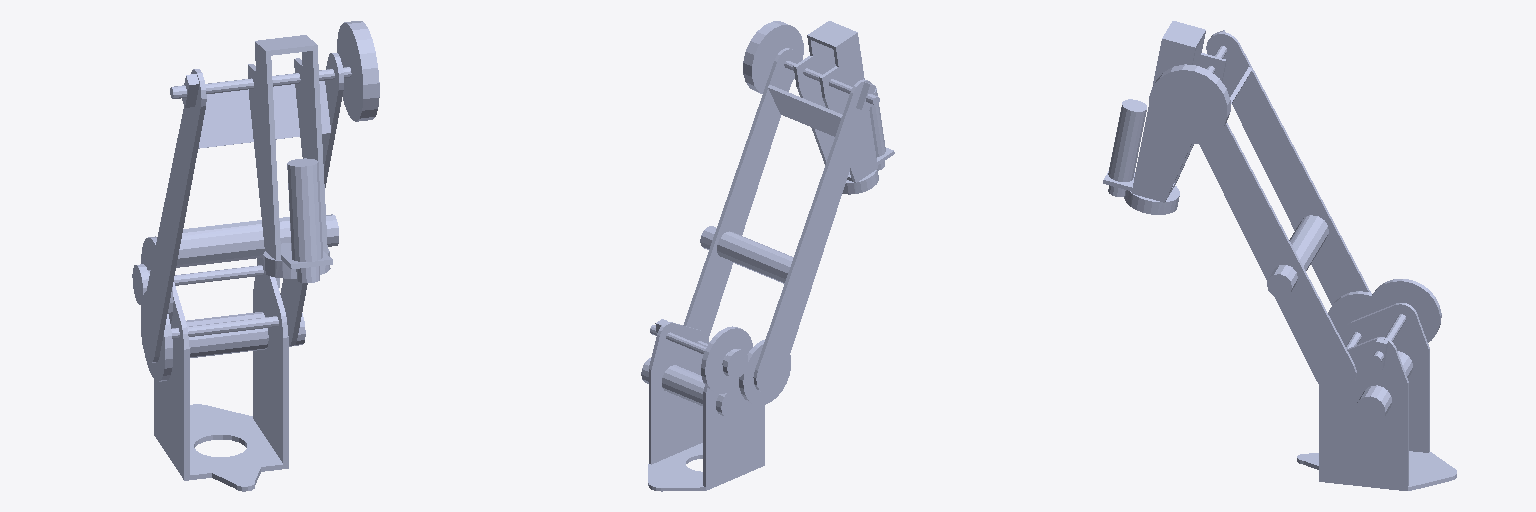
The robot description file, URDF, robot "wroboarm_22":
<?xml version="1.0" encoding="utf-8" ?>
<!-- This URDF was automatically created by SolidWorks to URDF Exporter! Originally created by [author] ([email redacted]) 
     Commit Version: 1.6.0-4-g7f85cfe  Build Version: 1.6.7995.38578
     For more information, please see http://wiki.ros.org/sw_urdf_exporter -->
<robot name="wroboarm_22">
    <link name="base_link">
        <visual>
            <origin xyz="0 0 0" rpy="0 0 0" />
            <geometry>
                <mesh filename="package://wroboarm_22/meshes/base_link.stl" />
            </geometry>
            <material name="">
                <color rgba="0.792156862745098 0.819607843137255 0.933333333333333 1" />
            </material>
        </visual>
        <collision>
            <origin xyz="0 0 0" rpy="0 0 0" />
            <geometry>
                <mesh filename="package://wroboarm_22/meshes/base_link.stl" />
            </geometry>
        </collision>
    </link>
    <link name="shoulderBase_link">
        
        <inertial>
            <origin xyz="-0.0122586821821901 0.128577249577976 -0.00370544350042927" rpy="0 0 0" />
            <mass value="0.996366805002727" />
            <inertia ixx="0.00652370094208947" ixy="0.0010646616036529" ixz="0.000283127005277364" iyy="0.0050231810993567" iyz="6.82113719161566E-05" izz="0.0086334538259584" />
        </inertial>

        <visual>
            <origin xyz="0 0 0" rpy="0 0 0" />
            <geometry>
                <mesh filename="package://wroboarm_22/meshes/shoulderBase_link.stl" />
            </geometry>
            <material name="">
                <color rgba="0.792156862745098 0.819607843137255 0.933333333333333 1" />
            </material>
        </visual>
        <collision>
            <origin xyz="0 0 0" rpy="0 0 0" />
            <geometry>
                <mesh filename="package://wroboarm_22/meshes/shoulderBase_link.stl" />
            </geometry>
        </collision>
    </link>
    <joint name="turntable" type="revolute">
        <origin xyz="0 0 0.035865" rpy="1.5708 0 -0.25129" />
        <parent link="base_link" />
        <child link="shoulderBase_link" />
        <axis xyz="0 1 0" />
        <limit effort="50" velocity="1.5" lower="-0.523599" upper="1.0472"/>

    </joint>
    <link name="upperArm_link">
        
        <inertial>
            <origin xyz="0.0143973999054565 -3.20061625687929E-05 0.279348384794928" rpy="0 0 0" />
            <mass value="0.985210343915811" />
            <inertia ixx="0.0237982224738339" ixy="-8.87977733299251E-07" ixz="-0.00388532856230119" iyy="0.0293594722597602" iyz="-7.12944369971275E-06" izz="0.00625034839320104" />
        </inertial>

        <visual>
            <origin xyz="0 0 0" rpy="0 0 0" />
            <geometry>
                <mesh filename="package://wroboarm_22/meshes/upperArm_link.stl" />
            </geometry>
            <material name="">
                <color rgba="0.792156862745098 0.819607843137255 0.933333333333333 1" />
            </material>
        </visual>
        <collision>
            <origin xyz="0 0 0" rpy="0 0 0" />
            <geometry>
                <mesh filename="package://wroboarm_22/meshes/upperArm_link.stl" />
            </geometry>
        </collision>
    </link>
    <joint name="shoulder" type="revolute">
        <origin xyz="0 0.18098 0.043071" rpy="-1.1021 0 0" />
        <parent link="shoulderBase_link" />
        <child link="upperArm_link" />
        <axis xyz="1 0 0" />
        <limit effort="50" velocity="1.5" lower="-0.349" upper="0.78539"/>

    </joint>
    <link name="forarm_link">
        
        <inertial>
            <origin xyz="1.84574577843932E-15 0.0550154986611603 0.120152803034247" rpy="0 0 0" />
            <mass value="0.517796101730459" />
            <inertia ixx="0.00404850874710771" ixy="2.11419423634673E-18" ixz="-1.54871504075976E-17" iyy="0.00375548329392274" iyz="-0.000377385363706529" izz="0.000788327838226562" />
        </inertial>

        <visual>
            <origin xyz="0 0 0" rpy="0 0 0" />
            <geometry>
                <mesh filename="package://wroboarm_22/meshes/forarm_link.stl" />
            </geometry>
            <material name="">
                <color rgba="0.792156862745098 0.819607843137255 0.933333333333333 1" />
            </material>
        </visual>
        <collision>
            <origin xyz="0 0 0" rpy="0 0 0" />
            <geometry>
                <mesh filename="package://wroboarm_22/meshes/forarm_link.stl" />
            </geometry>
        </collision>
    </link>
    <joint name="elbow" type="revolute">
        <origin xyz="0 0 0.46634" rpy="2.4936 0 0" />
        <parent link="upperArm_link" />
        <child link="forarm_link" />
        <axis xyz="1 0 0" />
        <limit effort="50" velocity="1.5" lower="-2.26893" upper="0.174533"/>

    </joint>
    <link name="wirstBase_link">
        
        <inertial>
            <origin xyz="-1.94289029309402E-16 -1.66533453693773E-15 0.0987034845564234" rpy="0 0 0" />
            <mass value="0.301763082175337" />
            <inertia ixx="0.00210344289702837" ixy="-2.71050543121376E-19" ixz="-2.24971950790742E-18" iyy="0.00305016250706558" iyz="1.85669622038143E-18" izz="0.00107609106501786" />
        </inertial>

        <visual>
            <origin xyz="0 0 0" rpy="0 0 0" />
            <geometry>
                <mesh filename="package://wroboarm_22/meshes/wirstBase_link.stl" />
            </geometry>
            <material name="">
                <color rgba="0.792156862745098 0.819607843137255 0.933333333333333 1" />
            </material>
        </visual>
        <collision>
            <origin xyz="0 0 0" rpy="0 0 0" />
            <geometry>
                <mesh filename="package://wroboarm_22/meshes/wirstBase_link.stl" />
            </geometry>
        </collision>
    </link>
    <joint name="forearm_roll" type="revolute">
        <origin xyz="0 0.04445 0.2285" rpy="0 0 0" />
        <parent link="forarm_link" />
        <child link="wirstBase_link" />
        <axis xyz="0 0 1" />
        <limit effort="50" velocity="1.5" lower="-3.1" upper="3.1"/>

    </joint>
    <link name="wrist_link">
        
        <inertial>
            <origin xyz="4.30211422042248E-16 -2.77555756156289E-17 0" rpy="0 0 0" />
            <mass value="0.447707117943176" />
            <inertia ixx="0.000367702266904795" ixy="1.79994501291539E-19" ixz="-7.45388993583784E-19" iyy="0.000843427086265753" iyz="-1.35525271560688E-20" izz="0.00084474612356066" />
        </inertial>

        <visual>
            <origin xyz="0 0 0" rpy="0 0 0" />
            <geometry>
                <mesh filename="package://wroboarm_22/meshes/wrist_link.stl" />
            </geometry>
            <material name="">
                <color rgba="0.792156862745098 0.819607843137255 0.933333333333333 1" />
            </material>
        </visual>
        <collision>
            <origin xyz="0 0 0" rpy="0 0 0" />
            <geometry>
                <mesh filename="package://wroboarm_22/meshes/wrist_link.stl" />
            </geometry>
        </collision>
    </link>
    <joint name="wrist_pitch" type="revolute">
        <origin xyz="0 0 0.23716" rpy="-1.333 0 0" />
        <parent link="wirstBase_link" />
        <child link="wrist_link" />
        <axis xyz="1 0 0" />
        <limit effort="50" velocity="1.5" lower="-3.1" upper="3.1"/>

    </joint>
    <link name="manipulator_link">
        
        <inertial>
            <origin xyz="-0.000730323740460503 -0.000899365669252 0.0490560099953423" rpy="0 0 0" />
            <mass value="0.397420225554811" />
            <inertia ixx="0.00159684305263878" ixy="-3.07243227891656E-06" ixz="2.53235579936151E-05" iyy="0.0016343224414688" iyz="5.00292290874635E-05" izz="0.000256322563994287" />
        </inertial>

        <visual>
            <origin xyz="0 0 0" rpy="0 0 0" />
            <geometry>
                <mesh filename="package://wroboarm_22/meshes/manipulator_link.stl" />
            </geometry>
            <material name="">
                <color rgba="0.792156862745098 0.819607843137255 0.933333333333333 1" />
            </material>
        </visual>
        <collision>
            <origin xyz="0 0 0" rpy="0 0 0" />
            <geometry>
                <mesh filename="package://wroboarm_22/meshes/manipulator_link.stl" />
            </geometry>
        </collision>
    </link>
    <joint name="wrist_roll" type="revolute">
        <origin xyz="0 0 0" rpy="0 0 0.096862" />
        <parent link="wrist_link" />
        <child link="manipulator_link" />
        <axis xyz="0 0 1" />
        <limit effort="50" velocity="1.5" lower="-3.1" upper="3.1"/>

    </joint>
    
<transmission name="trans_turntable">
        <type>transmission_interface/SimpleTransmission</type>
        <joint name="turntable">
            <hardwareInterface>hardware_interface/EffortJointInterface</hardwareInterface>
        </joint>
        <actuator name="turntable_motor">
            <hardwareInterface>hardware_interface/EffortJointInterface</hardwareInterface>
            <mechanicalReduction>1</mechanicalReduction>
        </actuator>
    </transmission>
    <transmission name="trans_shoulder">
        <type>transmission_interface/SimpleTransmission</type>
        <joint name="shoulder">
            <hardwareInterface>hardware_interface/EffortJointInterface</hardwareInterface>
        </joint>
        <actuator name="shoulder_motor">
            <hardwareInterface>hardware_interface/EffortJointInterface</hardwareInterface>
            <mechanicalReduction>1</mechanicalReduction>
        </actuator>
    </transmission>
    <transmission name="trans_elbow">
        <type>transmission_interface/SimpleTransmission</type>
        <joint name="elbow">
            <hardwareInterface>hardware_interface/EffortJointInterface</hardwareInterface>
        </joint>
        <actuator name="elbow_motor">
            <hardwareInterface>hardware_interface/EffortJointInterface</hardwareInterface>
            <mechanicalReduction>1</mechanicalReduction>
        </actuator>
    </transmission>
    <transmission name="trans_forearm_roll">
        <type>transmission_interface/SimpleTransmission</type>
        <joint name="forearm_roll">
            <hardwareInterface>hardware_interface/EffortJointInterface</hardwareInterface>
        </joint>
        <actuator name="forearm_roll_motor">
            <hardwareInterface>hardware_interface/EffortJointInterface</hardwareInterface>
            <mechanicalReduction>1</mechanicalReduction>
        </actuator>
    </transmission>
    <transmission name="trans_wrist_pitch">
        <type>transmission_interface/SimpleTransmission</type>
        <joint name="wrist_pitch">
            <hardwareInterface>hardware_interface/EffortJointInterface</hardwareInterface>
        </joint>
        <actuator name="wrist_pitch_motor">
            <hardwareInterface>hardware_interface/EffortJointInterface</hardwareInterface>
            <mechanicalReduction>1</mechanicalReduction>
        </actuator>
    </transmission>
    <transmission name="trans_wrist_roll">
        <type>transmission_interface/SimpleTransmission</type>
        <joint name="wrist_roll">
            <hardwareInterface>hardware_interface/EffortJointInterface</hardwareInterface>
        </joint>
        <actuator name="wrist_roll_motor">
            <hardwareInterface>hardware_interface/EffortJointInterface</hardwareInterface>
            <mechanicalReduction>1</mechanicalReduction>
        </actuator>
    </transmission>
    <gazebo>
        <plugin name="gazebo_ros_control" filename="libgazebo_ros_control.so">
            <robotNamespace>/</robotNamespace>
        </plugin>
    </gazebo>
</robot>

--- Render facts (derived) ---
Views: 3 orthographic renders of the robot side by side, from view 1: azimuth 30°, elevation 25°; view 2: azimuth 150°, elevation 25°; view 3: azimuth 270°, elevation 25°.
Model wroboarm_22 with 7 links and 6 joints (6 revolute), rooted at base_link, posed every joint at zero.
Visible links, largest first — view 1: upperArm_link, shoulderBase_link, forarm_link; view 2: upperArm_link, shoulderBase_link, forarm_link; view 3: upperArm_link, shoulderBase_link, forarm_link.
Boxes of the visible links, box(x1,y1,x2,y2) form: upperArm_link: box(141, 21, 379, 362); shoulderBase_link: box(132, 236, 305, 491); forarm_link: box(248, 35, 332, 282); upperArm_link: box(683, 21, 879, 392); shoulderBase_link: box(641, 319, 790, 491); forarm_link: box(793, 21, 894, 194); upperArm_link: box(1149, 30, 1370, 392); shoulderBase_link: box(1297, 279, 1456, 490); forarm_link: box(1103, 21, 1226, 214).
Size in the robot's own frame: 0.3015 by 0.5136 by 0.6657 metres.
3 mesh visuals loaded from 7 distinct referenced files (3 binary STL); not drawn: 4 (reference not matched to a file when rendering).